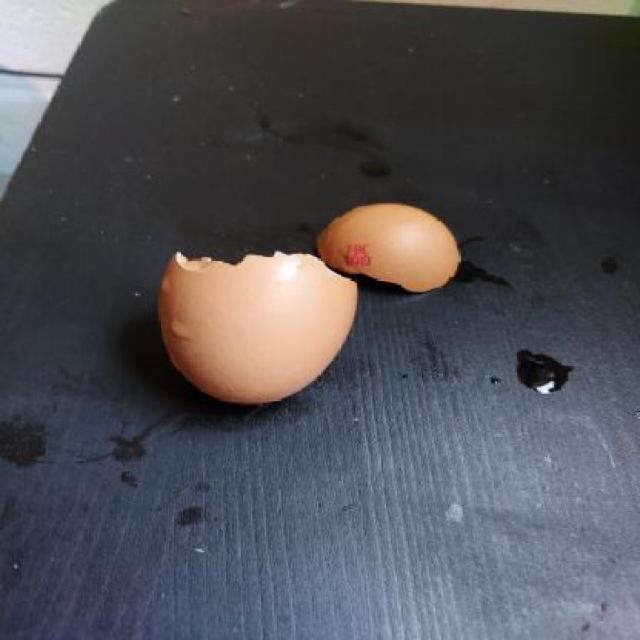biodegradable: (150, 247, 368, 416), (306, 196, 466, 301)
